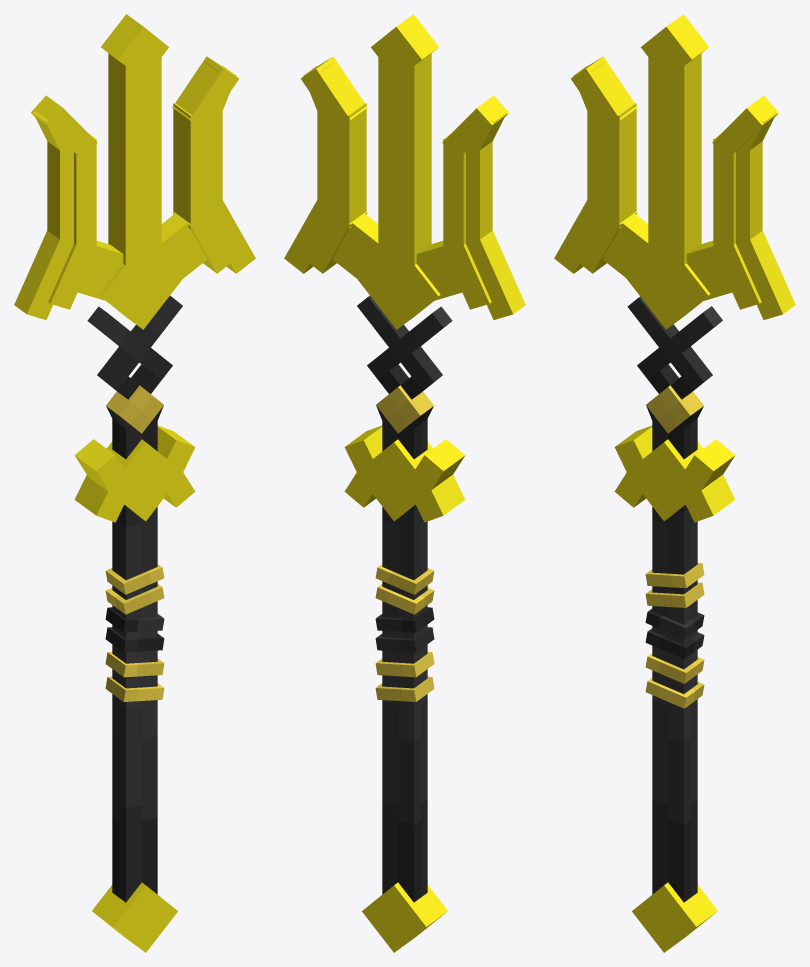
The model's file is electric_trident.obj.
3 renders of one model, left to right at view 1: azimuth 30°, elevation 25°; view 2: azimuth 150°, elevation 25°; view 3: azimuth 330°, elevation 25°, orthographic.
Parts seen in each view (by area): view 1: cube_outline, cube; view 2: cube_outline, cube; view 3: cube_outline, cube.
Boxes of the visible parts, <box> form: cube_outline: <box>14,14,255,952</box>; cube: <box>87,295,182,902</box>; cube_outline: <box>284,14,525,952</box>; cube: <box>357,295,452,902</box>; cube_outline: <box>554,14,795,952</box>; cube: <box>627,296,722,902</box>.
Size of the model in its own units: 0.454 by 1.75 by 0.075.
2 materials, 2 textured.
